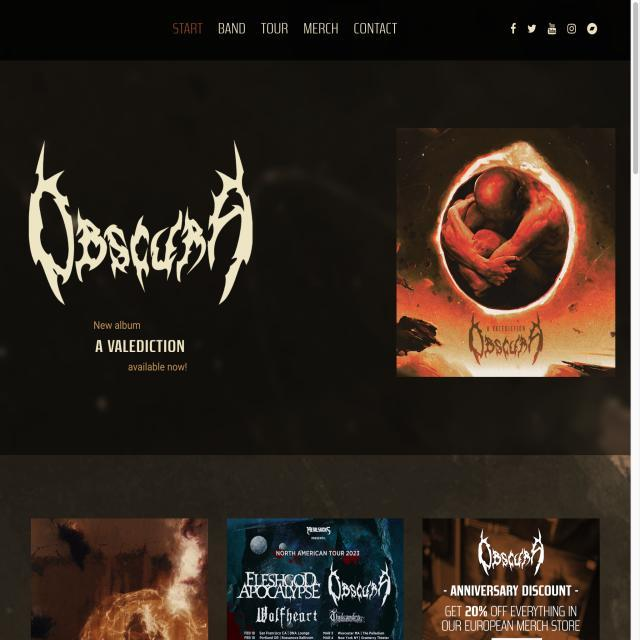navigation bar: (144, 10, 426, 58)
